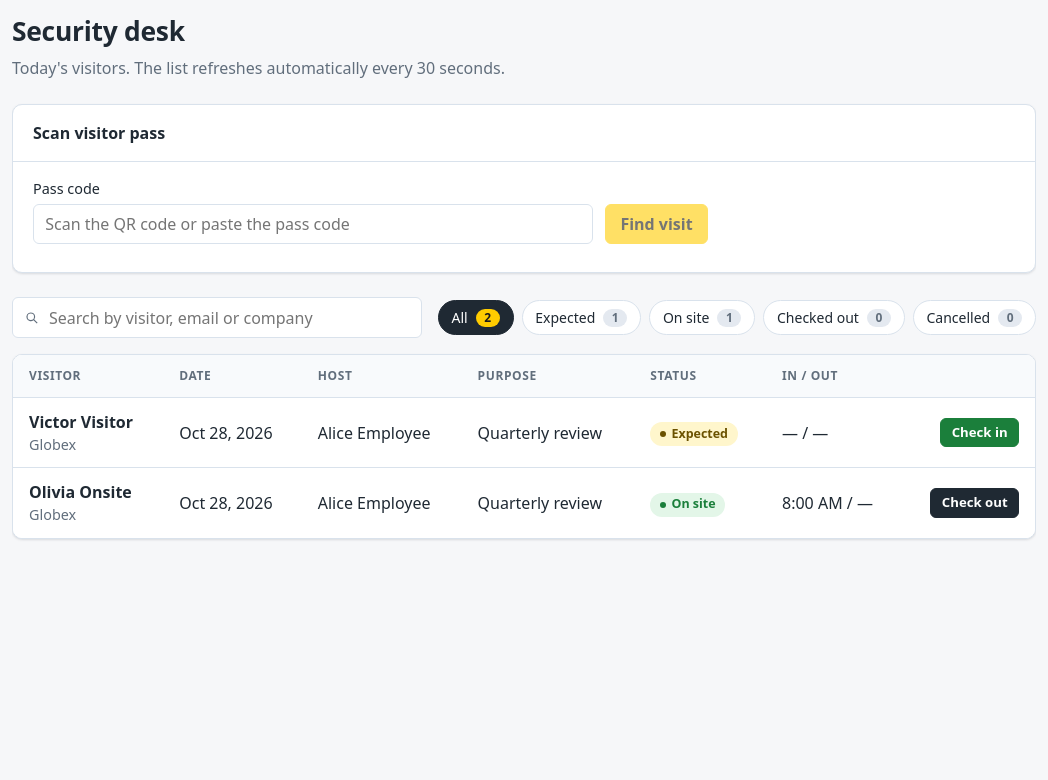
TodayVisitsPage (security desk) › filters the list by status
Check: the link "Olivia Onsite" is shown, box [29,481,132,503]
What coordinates should you click on to do the following:
click the button "On site 1"
I would click on:
 (702, 318)
Its box is [649,300,755,335].
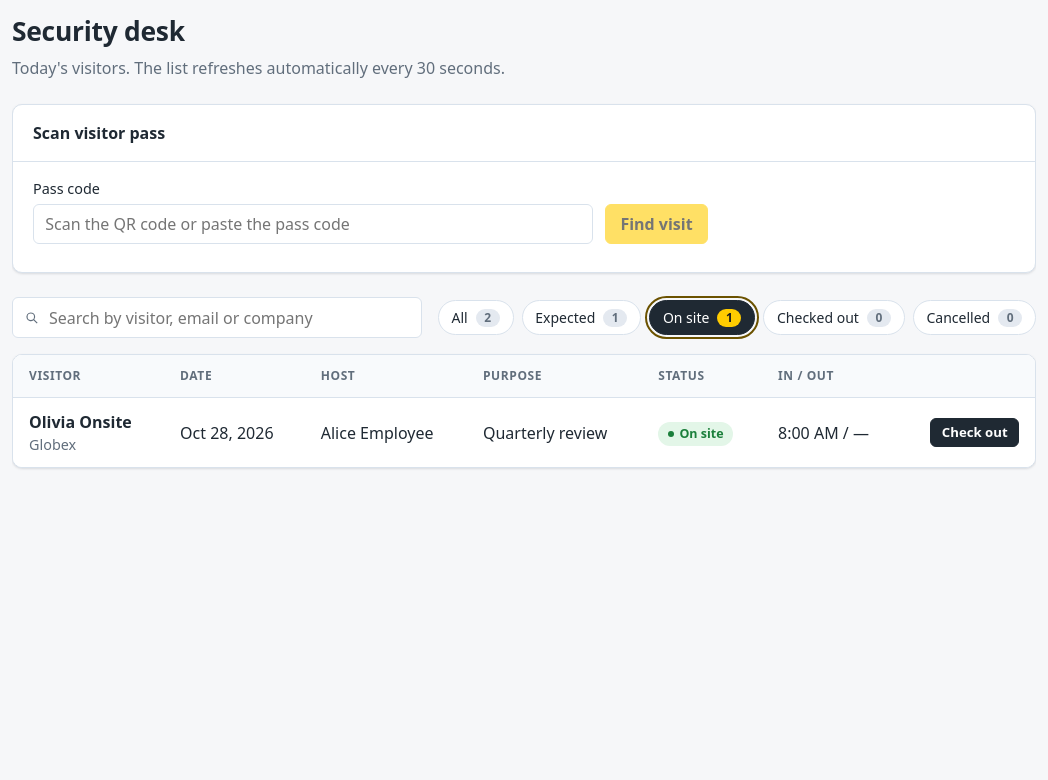
Check: the link "Olivia Onsite" is shown, box [29,411,132,433]
Check: the link "Victor Visitor" is gone
